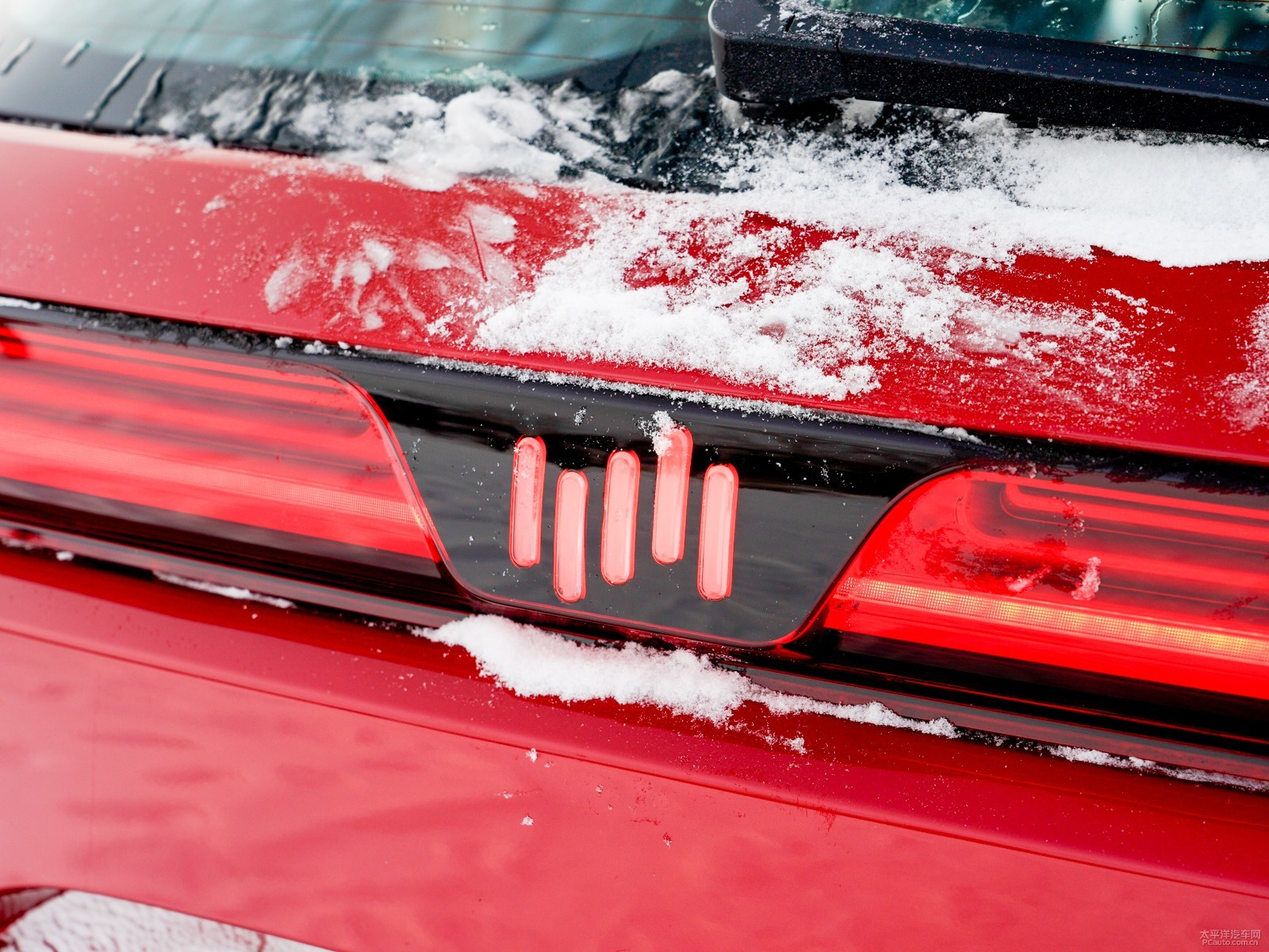WELTMEISTER: (510, 425, 738, 601)
